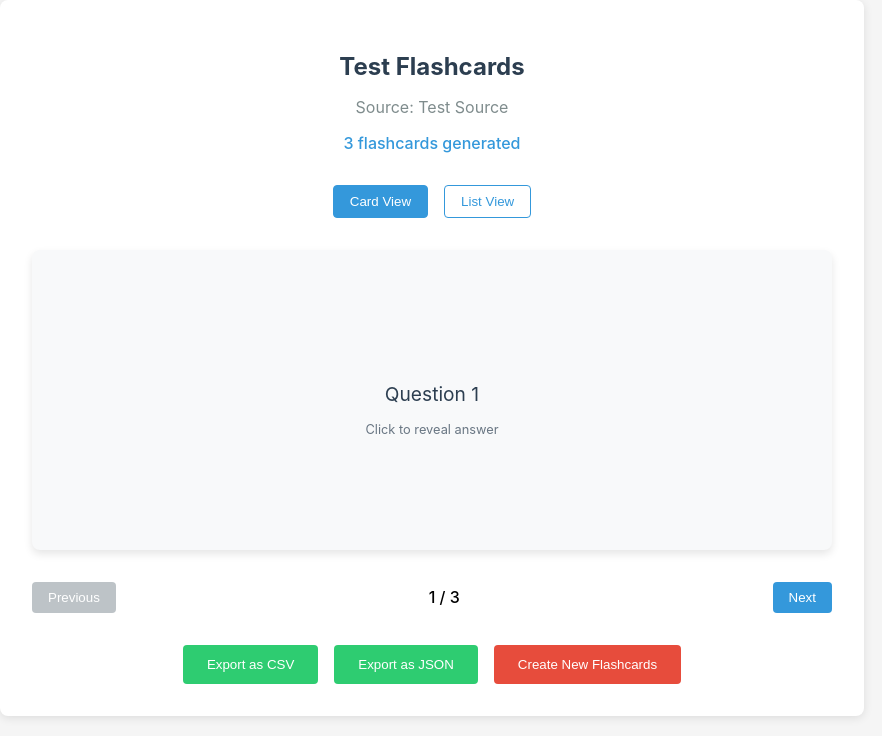
Test case: FlashcardViewer Component › navigates to next card
This screenshot has width=882, height=736.
Click the button "Next". click: [802, 597]
box: [773, 582, 832, 613]
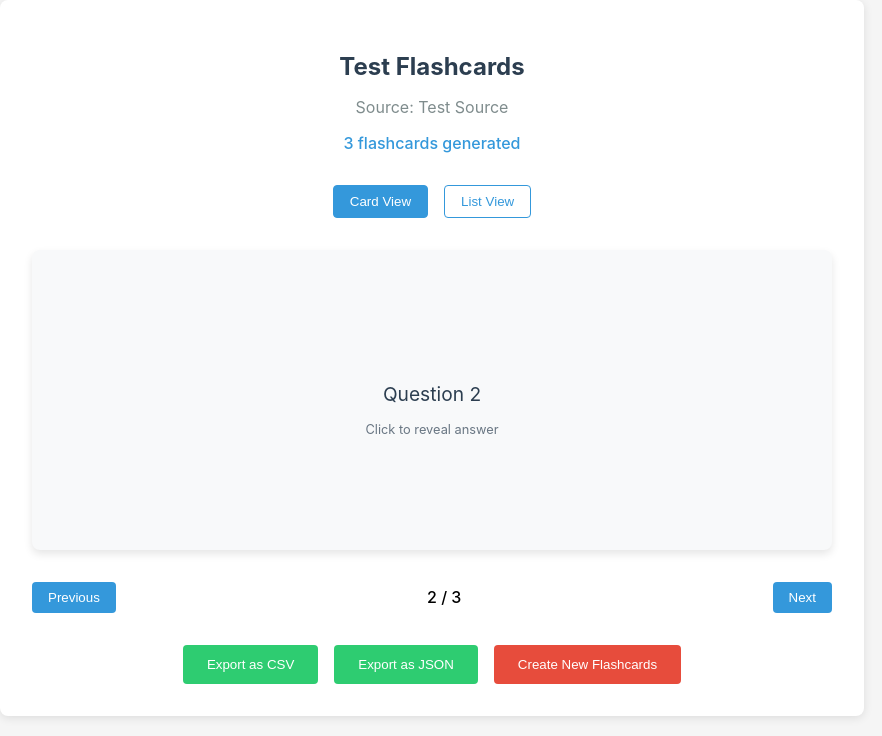
Expected: the text "Question 2" is shown, [383, 382, 481, 406]
Expected: the text "Question 1" is gone
